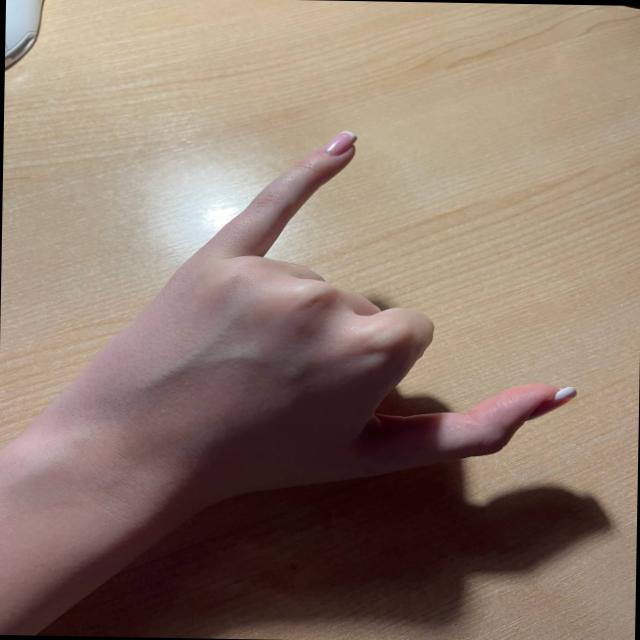u: (160, 126, 606, 480)
